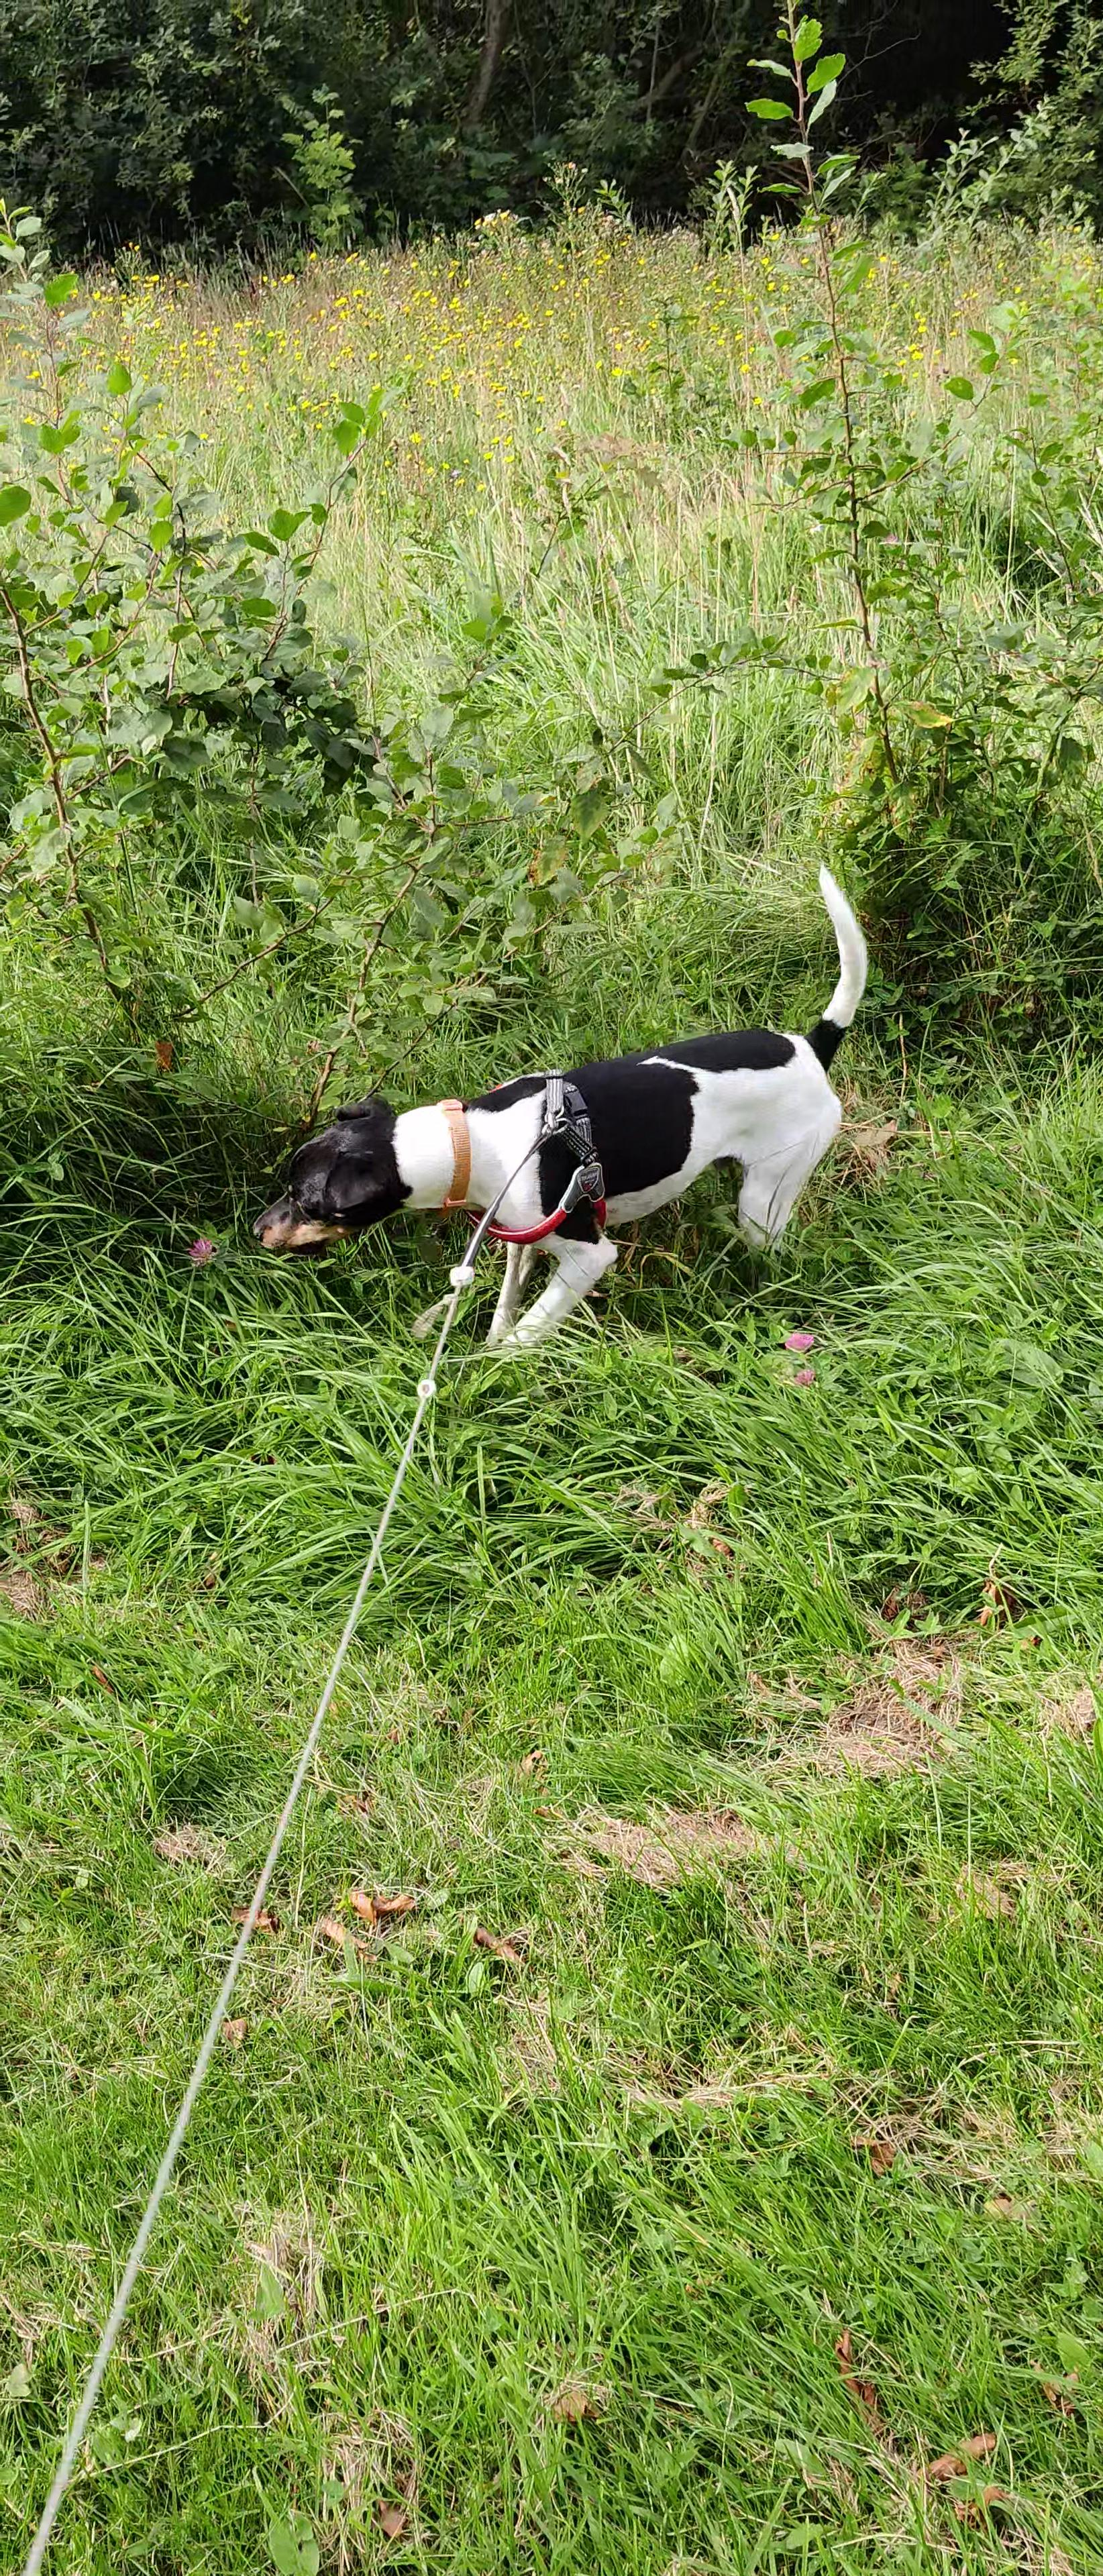Dog: (242, 848, 891, 1375)
